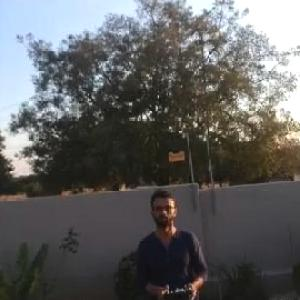follow: (133, 185, 221, 299)
